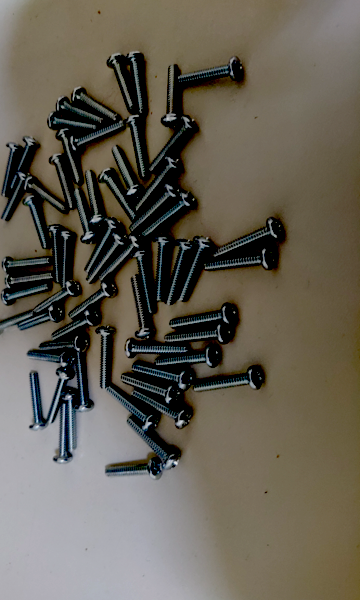longscrew: (211, 215, 286, 255), (125, 415, 179, 470), (191, 367, 266, 403), (133, 156, 181, 208), (150, 117, 198, 168), (143, 193, 196, 237), (128, 185, 181, 229), (180, 236, 213, 304), (82, 216, 118, 273), (103, 50, 136, 112), (108, 385, 156, 427), (132, 392, 189, 427), (100, 239, 141, 283), (177, 57, 247, 82), (124, 112, 150, 178), (10, 133, 40, 190), (165, 240, 192, 303), (88, 235, 124, 282), (70, 281, 115, 318), (101, 171, 134, 221), (69, 123, 124, 153), (30, 281, 80, 314), (24, 177, 68, 212), (44, 370, 73, 423), (131, 249, 156, 310), (120, 375, 178, 401), (0, 171, 29, 223), (171, 308, 242, 329), (128, 276, 152, 337), (127, 50, 150, 113), (106, 458, 168, 481), (206, 250, 277, 270), (157, 346, 224, 367), (161, 63, 183, 126), (53, 96, 104, 123), (149, 235, 169, 301), (51, 156, 75, 211), (52, 312, 99, 340), (134, 366, 195, 387), (19, 305, 63, 334), (97, 321, 116, 388), (115, 147, 139, 200), (0, 281, 50, 306), (3, 268, 53, 293), (0, 253, 50, 278), (56, 130, 79, 184), (125, 340, 187, 360), (0, 305, 36, 338), (24, 194, 45, 249), (75, 354, 92, 420), (0, 141, 19, 199), (74, 90, 118, 115), (74, 183, 92, 244), (85, 165, 103, 225), (28, 369, 46, 428), (52, 403, 68, 468), (39, 333, 90, 353), (165, 327, 234, 341), (60, 229, 76, 288), (66, 387, 80, 451), (49, 224, 64, 282), (48, 113, 99, 129), (26, 349, 73, 366)
